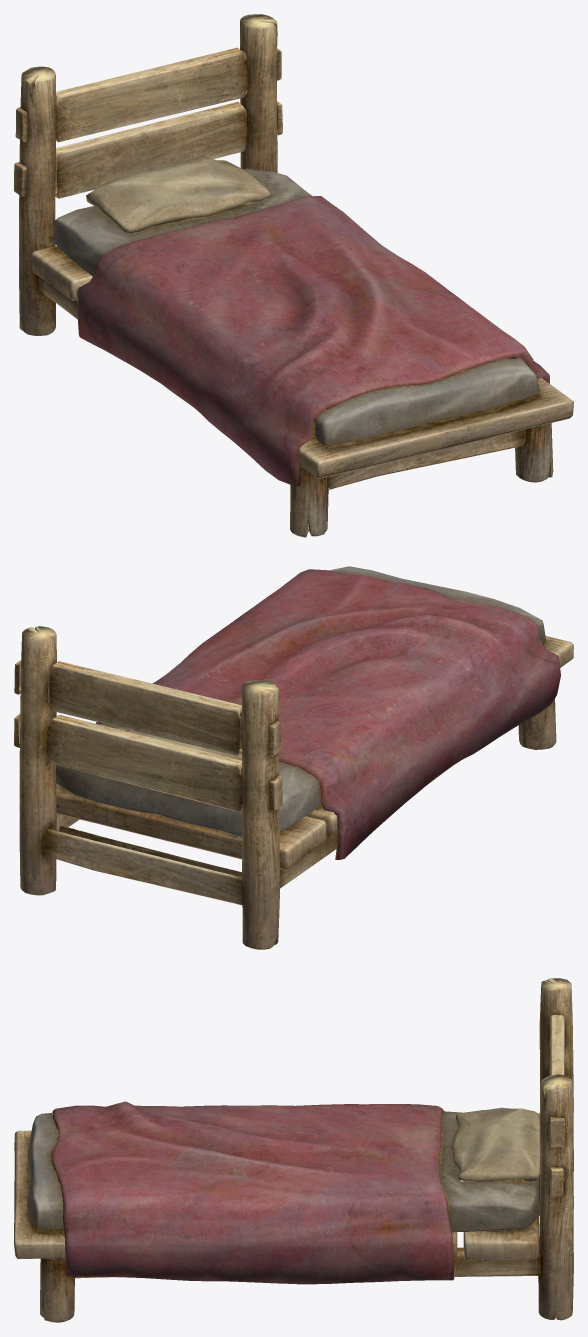
The picture shows the model from 3 angles, top to bottom: view 1: azimuth 30°, elevation 25°; view 2: azimuth 150°, elevation 25°; view 3: azimuth 270°, elevation 25°; orthographic projection. The views are drawn at different scales.
Visible parts, largest first — view 1: SM_Bed_01v1_LOD0; view 2: SM_Bed_01v1_LOD0; view 3: SM_Bed_01v1_LOD0.
Boxes of the visible parts, x1,y1,x2,y2 form: SM_Bed_01v1_LOD0: [14, 14, 573, 537]; SM_Bed_01v1_LOD0: [14, 566, 573, 949]; SM_Bed_01v1_LOD0: [14, 978, 573, 1322].
Bounding box in the file's own units: 1.15 × 1.03 × 2.23.
1 material, 1 textured.
